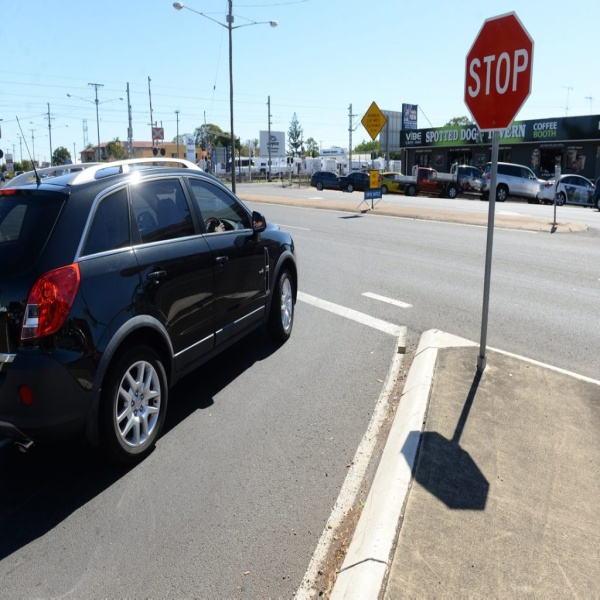stop: (461, 12, 533, 133)
